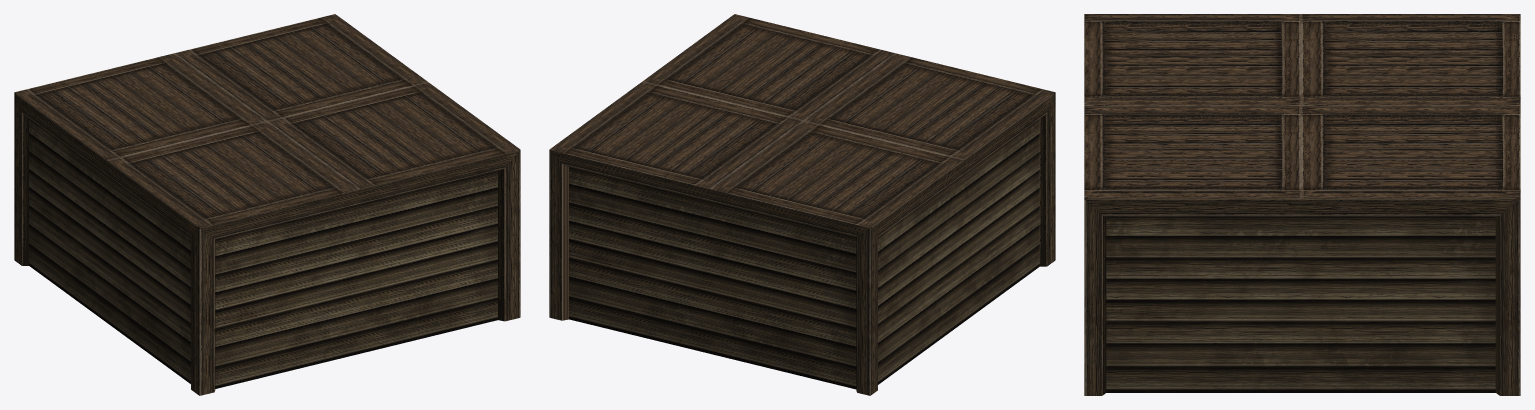
File: House_8X8_04c.fbx
3 views of the same model, side by side, from view 1: azimuth 30°, elevation 25°; view 2: azimuth 150°, elevation 25°; view 3: azimuth 270°, elevation 25° (orthographic). The views are drawn at different scales.
Parts seen in each view (by area): view 1: House_8X8_04c; view 2: House_8X8_04c; view 3: House_8X8_04c.
Part boxes in pixels (bbox=[...]): House_8X8_04c: bbox=[14, 14, 520, 395]; House_8X8_04c: bbox=[549, 14, 1055, 395]; House_8X8_04c: bbox=[1084, 14, 1520, 395].
Size of the model in its own units: 8 by 4 by 8.
